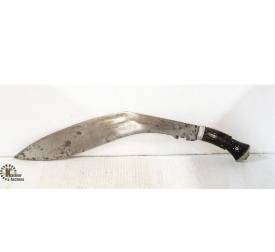MACHETTE: (8, 107, 275, 173)
